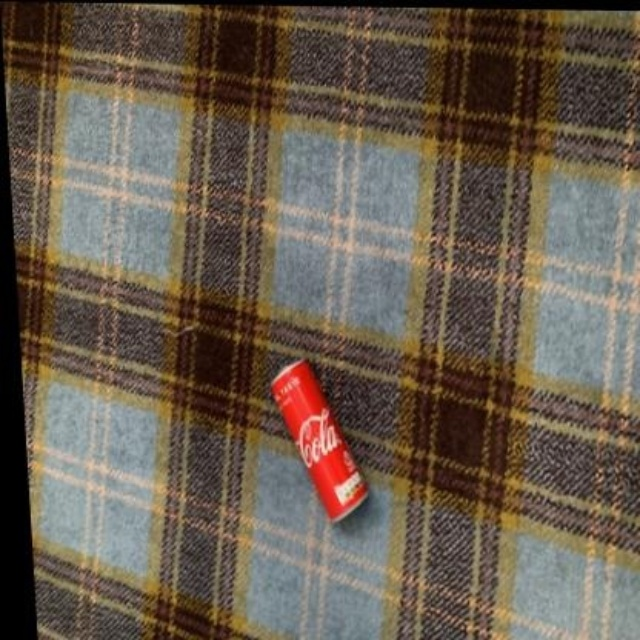trash: (271, 360, 366, 520)
